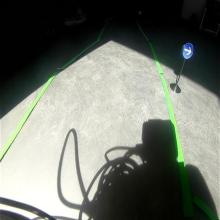right: (182, 41, 194, 60)
